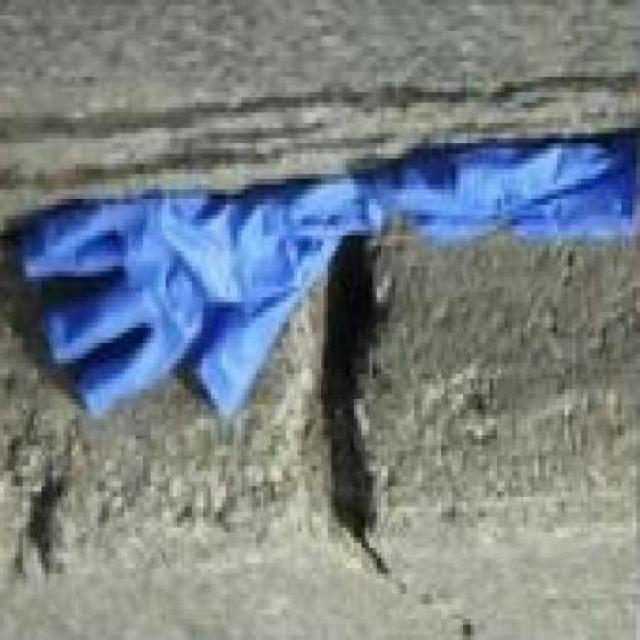gloved_hand: (26, 158, 357, 428), (354, 118, 636, 307)
